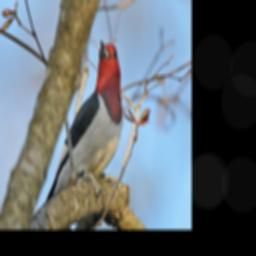Woodpecker: (39, 30, 127, 223)
